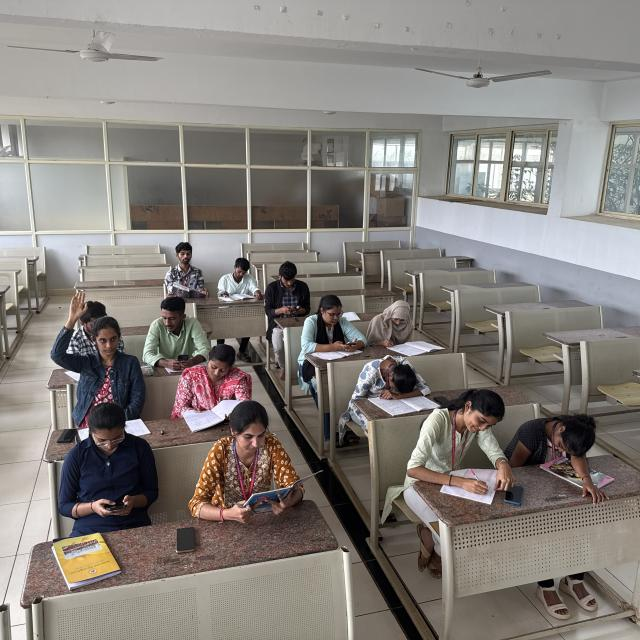Hand Rising: (49, 289, 144, 412)
Reading: (194, 404, 313, 524), (178, 340, 258, 420), (154, 242, 212, 304), (211, 254, 266, 311)
Sleeping: (353, 348, 431, 397)
Using Phone: (59, 406, 158, 533), (141, 296, 211, 372), (299, 293, 365, 363), (264, 259, 318, 329)
Writing: (416, 392, 512, 504), (362, 294, 432, 348)
